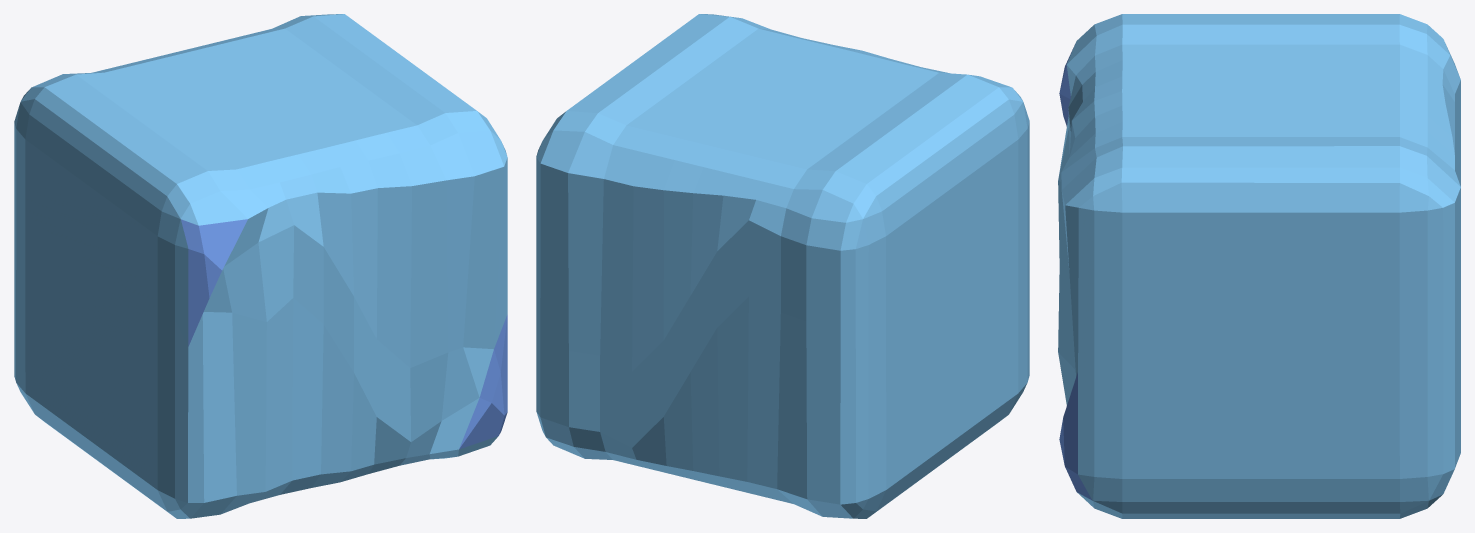
File: smallbluebutton 1.fbx
3 renders of one model, left to right at view 1: azimuth 30°, elevation 25°; view 2: azimuth 150°, elevation 25°; view 3: azimuth 270°, elevation 25°, orthographic. The views are drawn at different scales.
Visible parts, largest first — view 1: pCube5; view 2: pCube5; view 3: pCube5.
Boxes of the visible parts, x1,y1,x2,y2 form: pCube5: [14, 14, 507, 518]; pCube5: [536, 14, 1029, 518]; pCube5: [1058, 14, 1460, 518].
Size of the model in its own units: 1.06 by 1.03 by 1.04.
